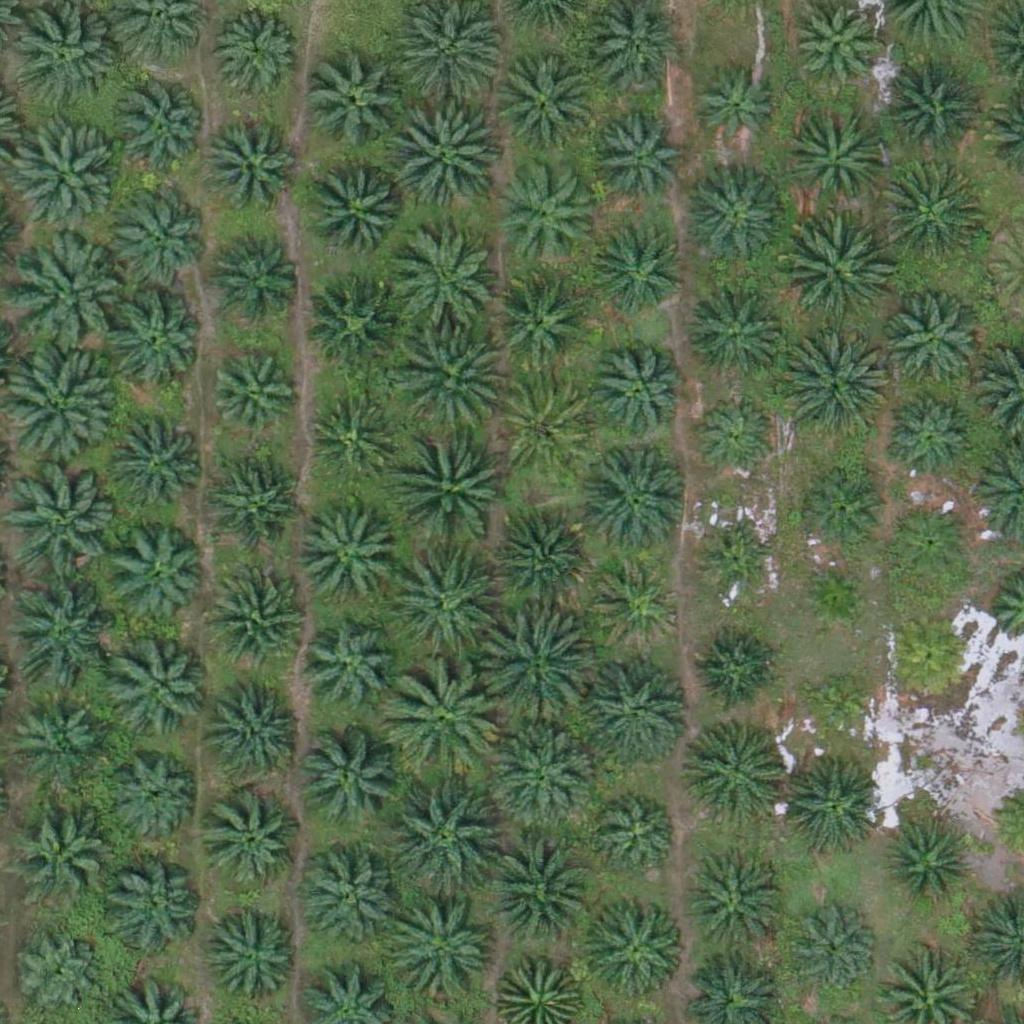Kelapa_Sawit: (384, 549, 497, 663), (393, 321, 506, 435), (389, 896, 502, 1009), (388, 780, 501, 893), (777, 328, 890, 441), (778, 216, 891, 329), (387, 229, 500, 342), (393, 100, 506, 213), (1, 349, 114, 462), (14, 233, 127, 346), (5, 119, 118, 232), (489, 717, 601, 831), (395, 424, 507, 538), (2, 576, 114, 689), (386, 663, 498, 776), (476, 611, 588, 724), (481, 832, 593, 945), (579, 652, 691, 765), (876, 158, 988, 271), (578, 442, 690, 555), (8, 465, 120, 578), (305, 50, 405, 151), (873, 57, 973, 158), (8, 688, 108, 789), (11, 799, 111, 900), (105, 522, 205, 623), (203, 790, 303, 891), (204, 566, 304, 667), (301, 617, 401, 718), (299, 727, 399, 828), (585, 894, 685, 995), (687, 858, 787, 959), (778, 756, 878, 857), (881, 290, 981, 391), (785, 109, 885, 210), (683, 169, 783, 270), (685, 282, 785, 383), (587, 341, 687, 442), (493, 159, 593, 260), (490, 269, 590, 370), (206, 454, 306, 555), (105, 287, 205, 388), (103, 413, 203, 514), (108, 82, 208, 182), (497, 52, 597, 152), (110, 641, 210, 741), (101, 858, 201, 958), (204, 906, 304, 1006), (211, 677, 311, 777), (295, 508, 395, 608), (298, 845, 398, 945), (491, 512, 591, 612), (684, 720, 784, 820), (496, 378, 596, 478), (307, 160, 407, 260), (307, 274, 407, 374), (210, 225, 310, 325), (202, 116, 302, 216), (111, 189, 211, 289), (885, 610, 973, 699), (212, 3, 300, 91), (789, 1, 877, 89), (885, 497, 973, 585), (15, 931, 103, 1019), (690, 395, 778, 483), (593, 227, 681, 315), (592, 118, 680, 206), (306, 393, 394, 481), (208, 355, 296, 443), (887, 393, 974, 482), (689, 65, 776, 153), (593, 560, 680, 648), (110, 752, 197, 840), (597, 794, 684, 882), (692, 624, 779, 712), (790, 901, 877, 989), (884, 821, 971, 909), (796, 467, 883, 555), (796, 559, 871, 635), (800, 667, 875, 743), (702, 530, 777, 605)
